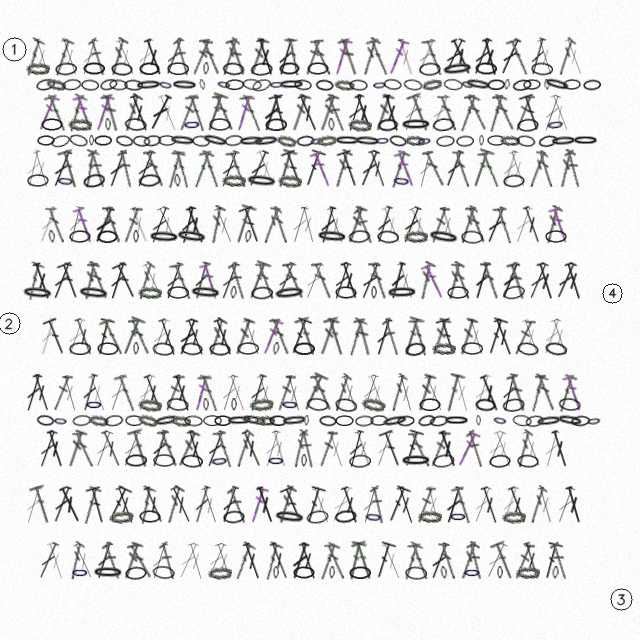chain: (427, 228, 460, 246), (175, 228, 208, 245), (441, 61, 474, 77), (245, 173, 278, 189), (21, 285, 54, 301), (77, 285, 110, 301), (273, 285, 306, 301), (273, 509, 306, 525), (189, 285, 222, 300), (316, 229, 348, 244), (543, 76, 571, 93), (201, 132, 229, 149), (148, 230, 180, 244), (381, 413, 409, 429), (361, 396, 386, 413), (464, 77, 492, 92), (153, 413, 181, 428), (240, 413, 268, 428), (556, 413, 584, 428), (400, 118, 432, 131), (386, 286, 418, 299), (400, 454, 432, 467), (92, 566, 124, 579), (82, 172, 106, 189), (502, 284, 526, 301), (109, 509, 134, 525), (252, 134, 280, 148), (535, 414, 563, 428), (516, 341, 540, 357), (544, 341, 568, 357), (334, 397, 358, 413), (249, 397, 274, 412), (404, 341, 427, 357), (502, 397, 525, 413), (432, 453, 455, 469), (306, 509, 329, 525), (169, 134, 196, 147), (281, 414, 308, 427), (124, 117, 147, 132), (432, 117, 455, 132), (138, 173, 161, 188), (348, 229, 371, 244), (166, 397, 189, 412), (306, 397, 329, 412), (558, 397, 581, 412), (334, 509, 357, 524), (152, 565, 175, 580), (251, 77, 272, 93), (348, 118, 372, 132), (50, 133, 71, 149), (278, 174, 302, 188), (138, 398, 162, 412), (502, 510, 526, 524), (208, 566, 232, 580), (45, 77, 67, 92), (421, 77, 443, 92), (137, 413, 159, 428), (135, 79, 162, 91), (171, 79, 198, 91), (238, 135, 265, 147), (354, 135, 381, 147), (550, 135, 577, 147), (222, 62, 245, 76), (250, 62, 273, 76), (152, 342, 175, 356), (35, 77, 56, 92), (68, 133, 89, 148), (26, 62, 50, 75), (68, 118, 92, 131), (222, 174, 246, 187), (404, 230, 428, 243), (138, 286, 162, 299), (432, 342, 456, 355), (418, 510, 442, 523), (516, 566, 540, 579), (55, 62, 77, 76), (111, 62, 133, 76), (419, 62, 441, 76), (531, 62, 553, 76), (377, 118, 399, 132), (517, 118, 539, 132), (503, 174, 525, 188), (377, 230, 399, 244), (461, 230, 483, 244), (251, 286, 273, 300), (181, 342, 203, 356), (209, 342, 231, 356), (181, 454, 203, 468), (349, 454, 371, 468), (489, 454, 511, 468), (517, 454, 539, 468), (223, 510, 245, 524), (125, 566, 147, 580), (405, 566, 427, 580), (99, 77, 119, 92), (417, 413, 437, 428), (278, 79, 305, 90), (334, 135, 361, 146), (572, 135, 599, 146), (226, 415, 253, 426), (443, 415, 470, 426), (276, 134, 297, 148), (475, 398, 496, 412), (83, 62, 105, 75), (167, 62, 189, 75), (307, 62, 329, 75), (475, 62, 497, 75), (41, 118, 63, 131), (209, 118, 231, 131), (265, 118, 287, 131), (27, 174, 49, 187), (69, 230, 91, 243), (545, 230, 567, 243), (167, 286, 189, 299), (335, 286, 357, 299), (447, 286, 469, 299), (69, 342, 91, 355), (97, 342, 119, 355), (237, 342, 259, 355), (293, 342, 315, 355), (461, 342, 483, 355), (419, 398, 441, 411), (125, 454, 147, 467), (153, 454, 175, 467), (139, 510, 161, 523), (293, 566, 315, 579), (349, 566, 371, 579), (546, 117, 565, 132), (403, 78, 423, 92), (512, 78, 532, 92), (388, 134, 408, 148), (516, 134, 536, 148), (538, 134, 558, 148), (429, 414, 449, 428), (139, 62, 160, 75), (279, 62, 300, 75), (316, 134, 337, 147), (97, 230, 118, 243), (88, 414, 109, 427), (115, 134, 134, 148), (56, 174, 75, 188), (392, 174, 411, 188), (525, 414, 544, 428), (210, 454, 229, 468), (364, 510, 383, 524), (62, 78, 82, 91), (242, 78, 262, 91), (443, 78, 463, 91), (224, 134, 244, 147), (72, 414, 92, 427), (104, 414, 124, 427), (512, 414, 532, 427), (334, 79, 355, 91), (383, 78, 402, 91), (143, 134, 162, 147), (36, 414, 55, 427), (171, 415, 191, 427), (157, 78, 174, 92), (183, 118, 201, 131), (85, 398, 103, 411), (281, 398, 299, 411), (267, 454, 285, 467), (449, 510, 467, 523), (71, 566, 89, 579), (463, 566, 481, 579), (109, 79, 128, 91), (124, 79, 143, 91), (315, 79, 334, 91), (349, 79, 368, 91), (132, 135, 151, 147), (296, 135, 315, 147), (436, 135, 455, 147), (184, 415, 203, 427), (355, 415, 374, 427), (571, 415, 590, 427), (405, 135, 425, 146), (500, 135, 520, 146), (255, 415, 275, 426), (81, 79, 99, 91), (294, 79, 312, 91), (583, 79, 601, 91), (192, 135, 210, 147), (456, 135, 474, 147), (319, 415, 337, 427), (397, 415, 415, 427), (225, 79, 244, 90), (487, 135, 506, 146), (203, 415, 222, 426), (335, 415, 354, 426), (216, 78, 232, 91), (460, 78, 476, 91), (492, 414, 508, 427), (487, 79, 505, 90), (523, 79, 541, 90), (563, 79, 581, 90), (37, 135, 55, 146), (94, 135, 112, 146), (158, 135, 176, 146), (125, 415, 143, 426), (214, 415, 232, 426), (269, 415, 287, 426), (370, 415, 388, 426), (309, 135, 325, 147), (586, 415, 602, 427), (372, 79, 387, 91), (417, 135, 432, 147), (53, 415, 68, 427), (269, 79, 284, 90), (375, 135, 390, 146), (48, 230, 56, 243), (244, 230, 252, 243), (272, 342, 280, 355), (440, 566, 448, 579), (328, 118, 335, 131), (174, 174, 181, 187), (230, 286, 237, 299), (552, 566, 559, 579), (203, 62, 209, 75), (105, 118, 111, 131), (133, 230, 139, 243), (371, 286, 377, 299), (133, 342, 139, 355), (203, 398, 209, 411), (231, 398, 237, 411), (301, 454, 307, 467), (273, 566, 279, 579), (329, 566, 335, 579), (497, 566, 503, 579), (199, 79, 206, 90), (504, 79, 510, 90), (544, 79, 550, 90), (89, 135, 94, 146), (479, 135, 484, 146), (304, 415, 309, 426), (476, 415, 481, 426)
double: (111, 260, 141, 301), (299, 372, 329, 413), (103, 484, 133, 525), (279, 484, 308, 525), (383, 484, 412, 525), (406, 92, 434, 133), (280, 148, 308, 189), (56, 260, 84, 301), (244, 260, 272, 301), (42, 316, 70, 357), (118, 316, 146, 357), (378, 428, 406, 469), (490, 540, 518, 581), (98, 317, 126, 357), (202, 92, 229, 133), (518, 92, 545, 133), (300, 148, 327, 189), (336, 148, 363, 189), (468, 148, 495, 189), (238, 204, 265, 245), (286, 316, 313, 357), (294, 316, 321, 357), (440, 37, 468, 76), (146, 93, 174, 132), (56, 485, 84, 524), (482, 541, 510, 580), (454, 93, 481, 133), (188, 149, 215, 189), (174, 429, 201, 469), (230, 541, 257, 581), (314, 541, 341, 581), (231, 204, 257, 245), (323, 316, 349, 357), (399, 316, 425, 357), (435, 316, 461, 357), (483, 316, 509, 357), (127, 428, 153, 469), (399, 428, 425, 469), (29, 484, 55, 525), (351, 540, 377, 581), (371, 540, 397, 581), (448, 37, 475, 76), (154, 205, 181, 244), (406, 205, 433, 244), (140, 261, 167, 300), (420, 261, 447, 300), (454, 429, 481, 468), (168, 485, 195, 524), (328, 485, 355, 524), (70, 541, 97, 580), (49, 37, 75, 77), (113, 37, 139, 77), (365, 37, 391, 77), (505, 37, 531, 77), (43, 93, 69, 133), (155, 93, 181, 133), (239, 93, 265, 133), (295, 93, 321, 133), (49, 149, 75, 189), (57, 149, 83, 189), (385, 149, 411, 189), (477, 149, 503, 189), (91, 205, 117, 245), (211, 205, 237, 245), (379, 205, 405, 245), (483, 205, 509, 245), (169, 261, 195, 301), (301, 261, 327, 301), (357, 261, 383, 301), (525, 261, 551, 301), (421, 373, 447, 413), (477, 373, 503, 413), (483, 429, 509, 469), (301, 485, 327, 525), (379, 541, 405, 581), (413, 37, 439, 76), (497, 37, 523, 76), (427, 93, 453, 132), (245, 149, 271, 188), (553, 261, 579, 300), (239, 429, 265, 468), (141, 485, 167, 524), (35, 541, 61, 580), (175, 541, 201, 580), (203, 541, 229, 580), (21, 37, 46, 77), (141, 37, 166, 77), (225, 37, 250, 77), (337, 37, 362, 77), (421, 37, 446, 77), (127, 93, 152, 133), (483, 93, 508, 133), (105, 149, 130, 189), (133, 149, 158, 189), (217, 149, 242, 189), (225, 149, 250, 189), (273, 149, 298, 189), (147, 205, 172, 245), (183, 205, 208, 245), (399, 205, 424, 245), (511, 205, 536, 245), (49, 261, 74, 301), (217, 261, 242, 301), (175, 317, 200, 357), (183, 317, 208, 357), (211, 317, 236, 357), (231, 317, 256, 357), (491, 317, 516, 357), (519, 317, 544, 357), (85, 373, 110, 413), (113, 373, 138, 413), (141, 373, 166, 413), (197, 373, 222, 413), (225, 373, 250, 413), (365, 373, 390, 413), (441, 373, 466, 413), (553, 373, 578, 413), (35, 429, 60, 469), (91, 429, 116, 469), (119, 429, 144, 469), (203, 429, 228, 469), (491, 429, 516, 469), (85, 485, 110, 525), (113, 485, 138, 525), (309, 485, 334, 525), (505, 485, 530, 525), (553, 485, 578, 525), (399, 541, 424, 581), (407, 541, 432, 581), (427, 541, 452, 581), (539, 541, 564, 581), (127, 542, 153, 580), (385, 37, 410, 76), (35, 93, 60, 132), (309, 149, 334, 188), (357, 149, 382, 188), (393, 149, 418, 188), (127, 205, 152, 244), (273, 261, 298, 300), (259, 317, 284, 356), (99, 429, 124, 468), (267, 541, 292, 580), (58, 37, 82, 77), (246, 37, 270, 77), (64, 93, 88, 133), (184, 93, 208, 133), (260, 93, 284, 133), (268, 93, 292, 133), (288, 93, 312, 133), (316, 93, 340, 133), (400, 93, 424, 133), (540, 93, 564, 133), (162, 149, 186, 189), (198, 149, 222, 189), (506, 149, 530, 189), (324, 205, 348, 245), (344, 205, 368, 245), (492, 205, 516, 245), (30, 261, 54, 301), (162, 261, 186, 301), (330, 261, 354, 301), (64, 317, 88, 357), (92, 317, 116, 357), (148, 317, 172, 357), (156, 317, 180, 357), (240, 317, 264, 357), (316, 317, 340, 357), (344, 317, 368, 357), (428, 317, 452, 357), (548, 317, 572, 357), (106, 373, 130, 413), (134, 373, 158, 413), (170, 373, 194, 413), (338, 373, 362, 413), (470, 373, 494, 413), (506, 373, 530, 413), (64, 429, 88, 469), (212, 429, 236, 469), (324, 429, 348, 469), (78, 485, 102, 525), (198, 485, 222, 525), (338, 485, 362, 525), (394, 485, 418, 525), (450, 485, 474, 525), (478, 485, 502, 525), (44, 541, 68, 581), (120, 541, 144, 581), (212, 541, 236, 581), (240, 541, 264, 581), (260, 541, 284, 581), (288, 541, 312, 581), (296, 541, 320, 581), (162, 37, 186, 76), (470, 37, 494, 76), (562, 37, 586, 76), (72, 93, 96, 132), (352, 93, 376, 132), (464, 93, 488, 132), (492, 93, 516, 132), (548, 93, 572, 132), (254, 149, 278, 188), (422, 149, 446, 188), (442, 149, 466, 188), (36, 205, 60, 244), (72, 205, 96, 244), (520, 205, 544, 244), (498, 261, 522, 300), (72, 317, 96, 356), (204, 317, 228, 356), (540, 317, 564, 356), (372, 429, 396, 468), (436, 429, 460, 468), (520, 429, 544, 468), (50, 485, 74, 524), (470, 485, 494, 524), (498, 485, 522, 524), (456, 541, 480, 580), (78, 37, 101, 77), (134, 37, 157, 77), (254, 37, 277, 77), (534, 37, 557, 77), (100, 93, 123, 133), (344, 93, 367, 133), (372, 93, 395, 133), (380, 93, 403, 133), (30, 149, 53, 189), (288, 205, 311, 245), (106, 261, 129, 301), (506, 261, 529, 301), (534, 261, 557, 301), (562, 261, 585, 301), (372, 317, 395, 357), (408, 317, 431, 357), (456, 317, 479, 357), (22, 373, 45, 413), (218, 373, 241, 413), (246, 373, 269, 413), (254, 373, 277, 413), (414, 373, 437, 413), (526, 373, 549, 413), (184, 429, 207, 469), (22, 485, 45, 525), (442, 485, 465, 525), (534, 485, 557, 525), (148, 541, 171, 581), (344, 541, 367, 581), (324, 94, 348, 132), (352, 206, 376, 244), (512, 318, 536, 356), (72, 430, 96, 468), (408, 430, 432, 468), (106, 37, 129, 76), (358, 37, 381, 76), (92, 93, 115, 132), (120, 93, 143, 132), (212, 93, 235, 132), (330, 149, 353, 188), (366, 149, 389, 188), (548, 205, 571, 244), (282, 261, 305, 300), (338, 261, 361, 300), (394, 261, 417, 300), (128, 317, 151, 356), (30, 373, 53, 412), (310, 373, 333, 412), (358, 373, 381, 412), (562, 373, 585, 412), (44, 429, 67, 468), (148, 429, 171, 468), (352, 429, 375, 468), (428, 429, 451, 468), (162, 485, 185, 524), (218, 485, 241, 524), (254, 485, 277, 524), (274, 485, 297, 524), (275, 37, 297, 77), (479, 37, 501, 77), (171, 149, 193, 189), (177, 205, 199, 245), (317, 205, 339, 245), (23, 261, 45, 301), (353, 317, 375, 357), (59, 373, 81, 413), (283, 373, 305, 413), (395, 373, 417, 413), (451, 373, 473, 413), (345, 429, 367, 469), (541, 429, 563, 469), (135, 485, 157, 525), (359, 485, 381, 525), (185, 541, 207, 581), (190, 38, 213, 76), (310, 38, 333, 76), (526, 150, 549, 188), (260, 206, 283, 244), (226, 486, 249, 524), (324, 542, 347, 580), (512, 542, 535, 580), (31, 37, 53, 76), (199, 37, 221, 76), (219, 37, 241, 76), (331, 37, 353, 76), (395, 37, 417, 76), (555, 37, 577, 76), (177, 93, 199, 132), (233, 93, 255, 132), (437, 93, 459, 132), (513, 93, 535, 132), (143, 149, 165, 188), (499, 149, 521, 188), (45, 205, 67, 244), (121, 205, 143, 244), (373, 205, 395, 244), (437, 205, 459, 244), (457, 205, 479, 244), (465, 205, 487, 244), (541, 205, 563, 244), (87, 261, 109, 300), (199, 261, 221, 300), (311, 261, 333, 300), (443, 261, 465, 300), (471, 261, 493, 300), (37, 317, 59, 356), (269, 317, 291, 356), (465, 317, 487, 356), (51, 373, 73, 412), (163, 373, 185, 412), (331, 373, 353, 412), (157, 429, 179, 468), (233, 429, 255, 468), (261, 429, 283, 468), (549, 429, 571, 468), (191, 485, 213, 524), (247, 485, 269, 524), (563, 485, 585, 524), (93, 541, 115, 580), (101, 541, 123, 580), (521, 541, 543, 580), (415, 149, 436, 189), (87, 37, 108, 76), (303, 37, 324, 76), (527, 37, 548, 76), (23, 149, 44, 188), (87, 149, 108, 188), (555, 149, 576, 188), (65, 205, 86, 244), (429, 205, 450, 244), (79, 261, 100, 300), (135, 261, 156, 300), (191, 261, 212, 300), (227, 261, 248, 300), (255, 261, 276, 300), (387, 261, 408, 300), (415, 261, 436, 300), (451, 261, 472, 300), (381, 317, 402, 356), (79, 373, 100, 412), (191, 373, 212, 412), (275, 373, 296, 412), (499, 373, 520, 412), (535, 373, 556, 412), (269, 429, 290, 468), (317, 429, 338, 468), (465, 429, 486, 468), (415, 485, 436, 524), (423, 485, 444, 524), (527, 485, 548, 524), (549, 541, 570, 580), (172, 37, 192, 76), (80, 149, 100, 188), (452, 149, 472, 188), (102, 205, 122, 244), (206, 205, 226, 244), (270, 205, 290, 244), (298, 205, 318, 244), (368, 261, 388, 300), (480, 261, 500, 300), (388, 373, 408, 412), (514, 429, 534, 468), (158, 541, 178, 580), (438, 541, 458, 580), (284, 37, 303, 76), (536, 149, 555, 188), (564, 149, 583, 188), (290, 429, 309, 468), (298, 429, 317, 468), (466, 541, 485, 580), (117, 149, 135, 188), (369, 485, 387, 524), (67, 541, 85, 580)
noise: (0, 35, 28, 63), (608, 586, 635, 613), (600, 281, 624, 305), (0, 310, 22, 336)
